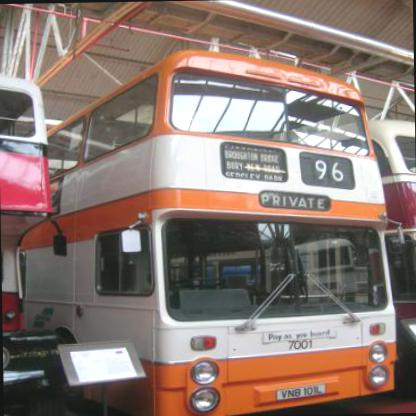bus: (22, 41, 415, 415), (273, 117, 415, 392), (0, 70, 77, 338)
